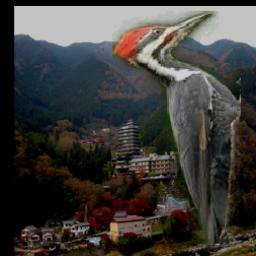Woodpecker: (113, 11, 242, 245)
